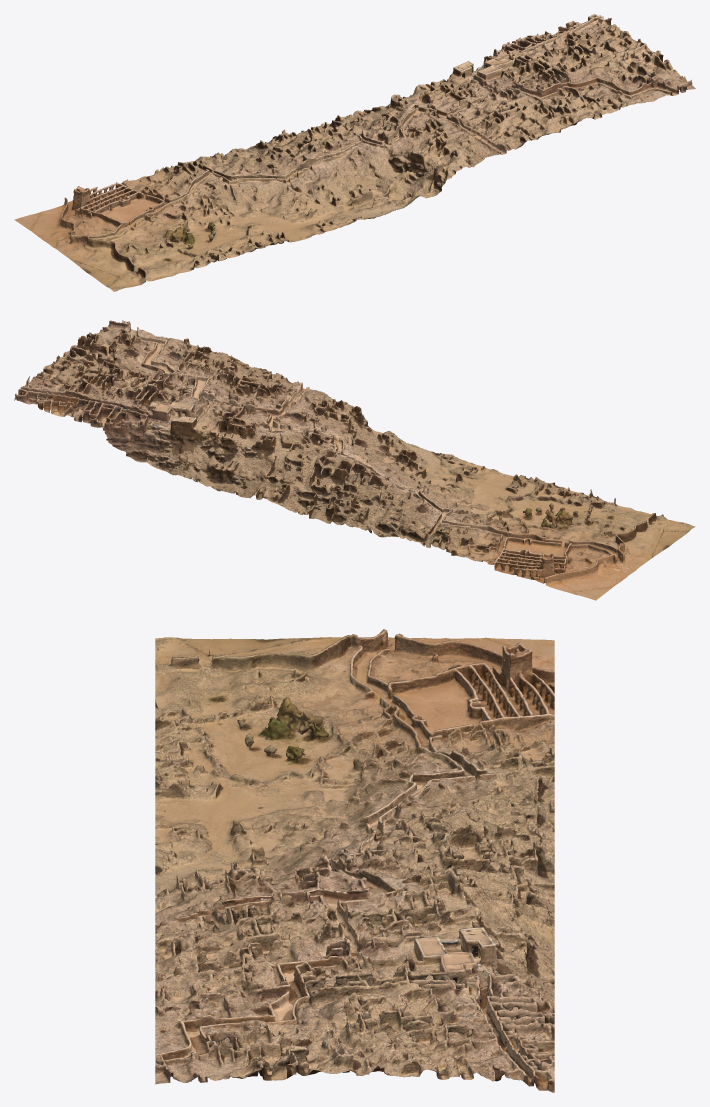
The picture shows the model from 3 angles, top to bottom: view 1: azimuth 30°, elevation 25°; view 2: azimuth 150°, elevation 25°; view 3: azimuth 270°, elevation 25°; orthographic projection. The views are drawn at different scales.
Parts seen in each view (by area): view 1: Ouadane_Focus_Rue_200K; view 2: Ouadane_Focus_Rue_200K; view 3: Ouadane_Focus_Rue_200K.
Boxes of the visible parts, box(x1,y1,x2,y2) form: Ouadane_Focus_Rue_200K: box(14, 14, 695, 291); Ouadane_Focus_Rue_200K: box(14, 320, 695, 600); Ouadane_Focus_Rue_200K: box(155, 629, 554, 1092).
Size of the model in its own units: 233 by 29.12 by 69.28.
Materials: 1 (1 with a texture image).
